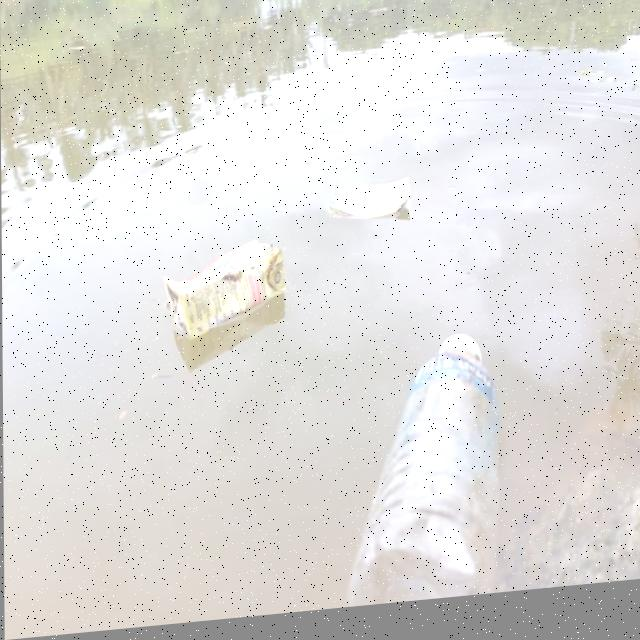paper: (144, 250, 296, 340), (314, 171, 426, 242)
waterbottle: (352, 316, 563, 613)
